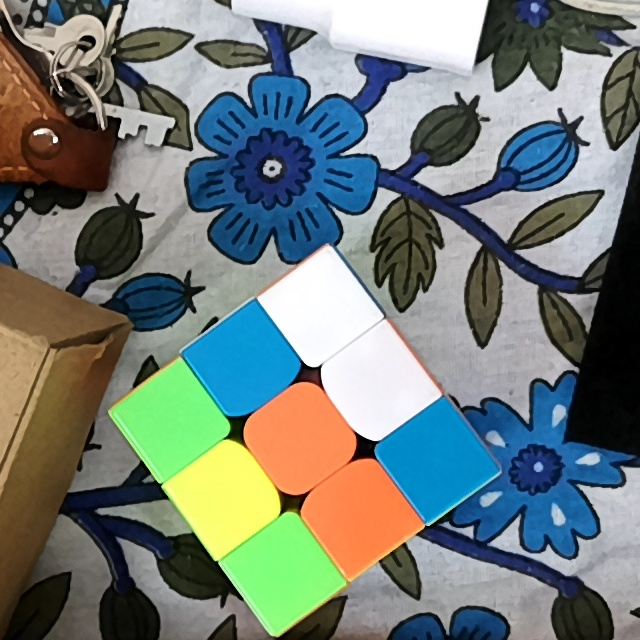tile: (267, 406, 332, 472), (325, 484, 392, 545), (403, 428, 470, 489), (251, 542, 315, 604), (346, 354, 411, 415), (193, 465, 255, 527), (210, 335, 277, 391), (142, 388, 200, 452), (287, 278, 352, 335)
